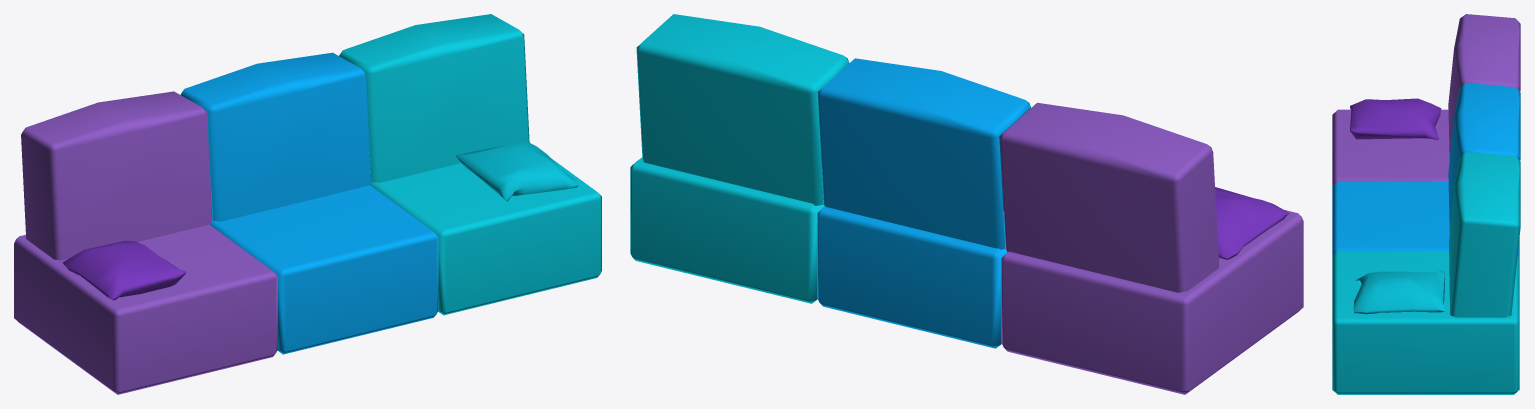
File: sofa_026.glb
The picture shows the model from 3 angles, left to right: view 1: azimuth 30°, elevation 25°; view 2: azimuth 150°, elevation 25°; view 3: azimuth 270°, elevation 25°; orthographic projection. The views are drawn at different scales.
Visible parts, largest first — view 1: sofa_026; view 2: sofa_026; view 3: sofa_026.
Part boxes in pixels (x1,y1,x2,y2): sofa_026: (14, 14, 601, 394); sofa_026: (630, 14, 1303, 394); sofa_026: (1332, 14, 1520, 394).
Size of the model in its own units: 1.8 by 0.7164 by 0.6745.
1 material, 1 textured.
